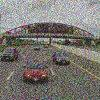cars: (21, 59, 48, 83), (51, 51, 71, 66), (1, 47, 19, 62)
